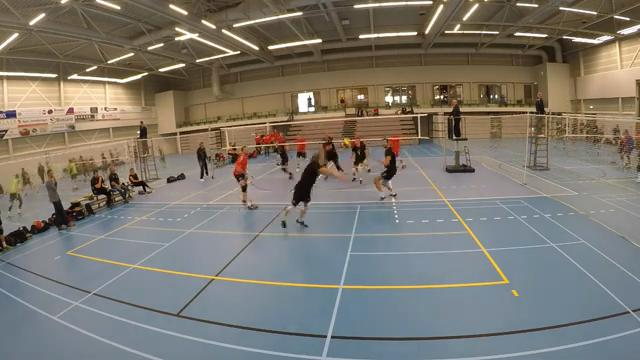Dig: (278, 145, 346, 232)
Player: (281, 143, 346, 227), (233, 146, 257, 209), (374, 139, 396, 200), (323, 134, 342, 171), (352, 137, 366, 183), (277, 144, 292, 179), (390, 137, 405, 168), (296, 136, 306, 170)
ball: (340, 137, 351, 150)
